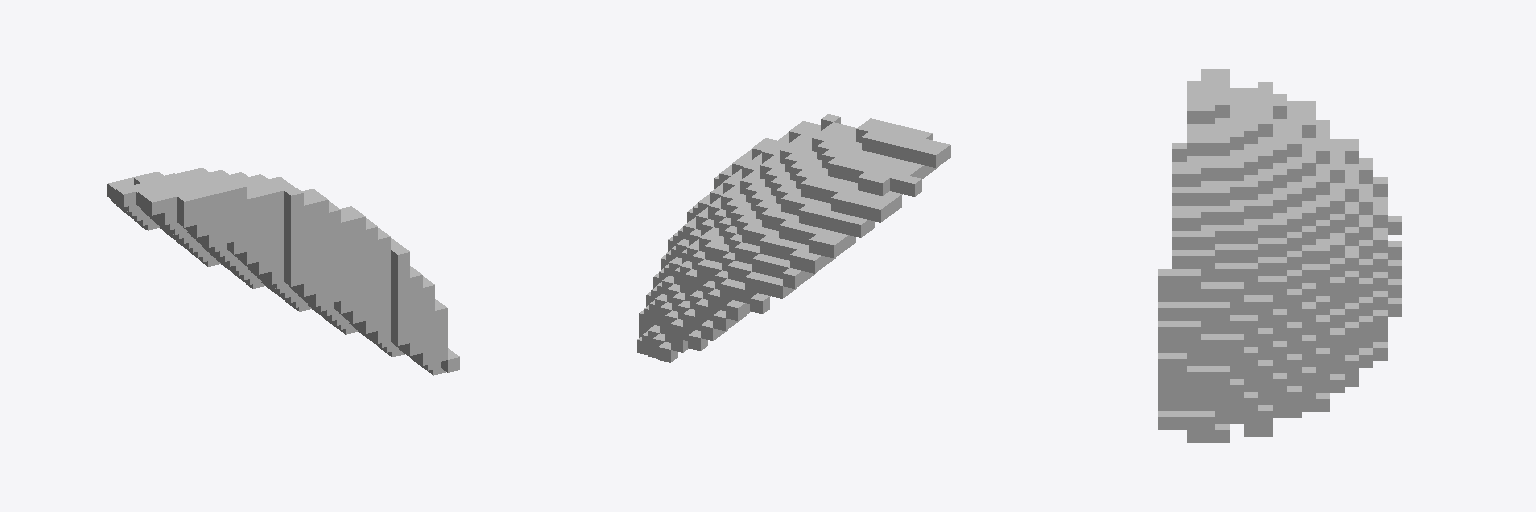
The model's file is огненый осколок 1.obj.
3 renders of one model, left to right at view 1: azimuth 30°, elevation 25°; view 2: azimuth 150°, elevation 25°; view 3: azimuth 270°, elevation 25°, orthographic.
Parts seen in each view (by area): view 1: object 1; view 2: object 1; view 3: object 1.
Part boxes in pixels (left/top/right/bottom): object 1: left=107, top=168, right=459, bottom=375; object 1: left=637, top=114, right=950, bottom=362; object 1: left=1158, top=69, right=1401, bottom=442.
Bounding box in the file's own units: 2.3 × 1.8 × 1.7.